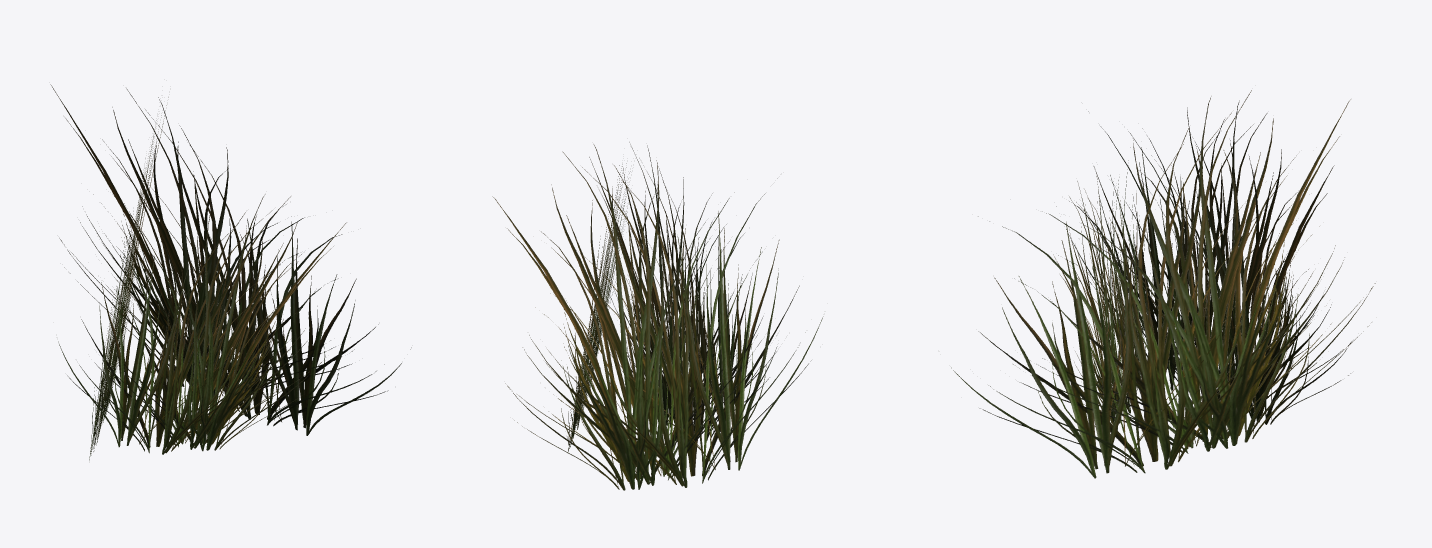
The model's file is grass_0_LOD1.fbx.
The picture shows the model from 3 angles, left to right: view 1: azimuth 30°, elevation 25°; view 2: azimuth 150°, elevation 25°; view 3: azimuth 270°, elevation 25°; orthographic projection. The views are drawn at different scales.
Visible parts, largest first — view 1: grass_0; view 2: grass_0; view 3: grass_0.
Part boxes in pixels (bbox=[...]): grass_0: bbox=[50, 84, 411, 460]; grass_0: bbox=[492, 142, 823, 490]; grass_0: bbox=[951, 90, 1375, 478].
Size of the model in its own units: 72.41 by 80.81 by 99.73.
1 material, 1 textured.
